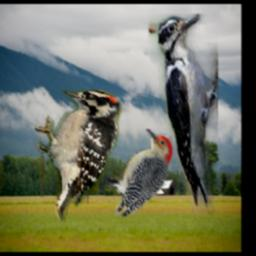Woodpecker: (148, 15, 218, 215), (35, 91, 122, 222), (103, 130, 173, 218)
